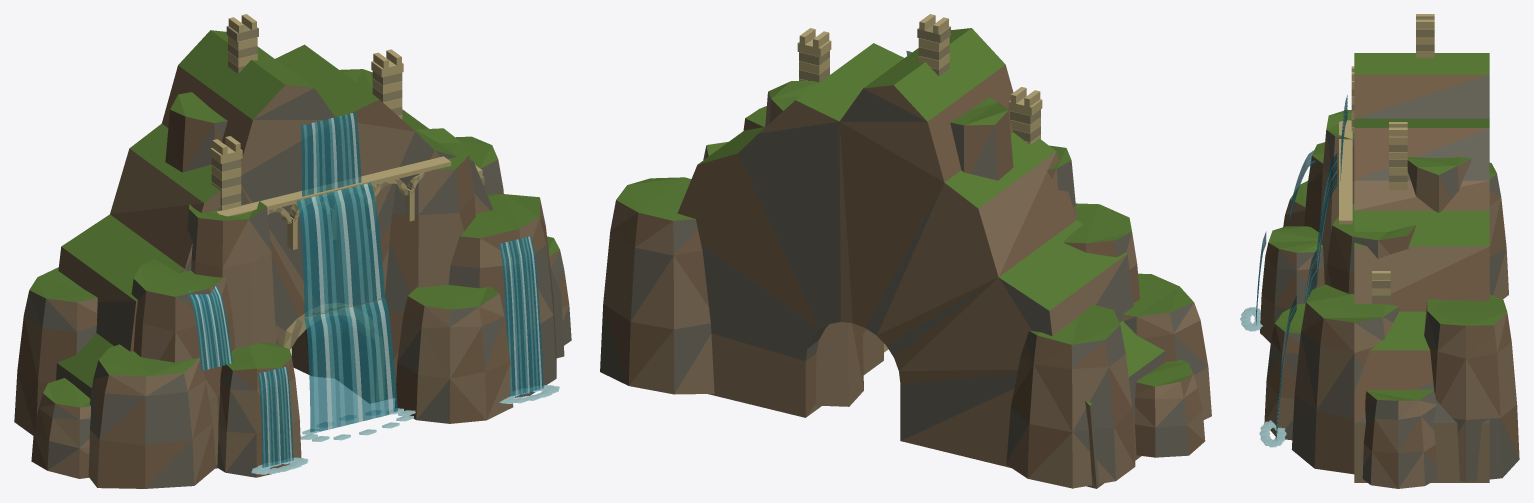
Rendered from waterfall_island.glb.
3 renders of one model, left to right at view 1: azimuth 30°, elevation 25°; view 2: azimuth 150°, elevation 25°; view 3: azimuth 270°, elevation 25°, orthographic. The views are drawn at different scales.
Visible parts, largest first — view 1: WaterfallIsland_Terrain, WaterfallIsland_Water, WaterfallIsland_Ruins, WaterfallIsland_Foam; view 2: WaterfallIsland_Terrain, WaterfallIsland_Ruins; view 3: WaterfallIsland_Terrain, WaterfallIsland_Ruins, WaterfallIsland_Water, WaterfallIsland_Foam.
Boxes of the visible parts, <box> form: WaterfallIsland_Terrain: <box>14,30,571,488</box>; WaterfallIsland_Water: <box>187,112,543,467</box>; WaterfallIsland_Ruins: <box>210,14,484,400</box>; WaterfallIsland_Foam: <box>251,385,559,474</box>; WaterfallIsland_Terrain: <box>600,28,1211,488</box>; WaterfallIsland_Ruins: <box>797,14,1042,352</box>; WaterfallIsland_Terrain: <box>1260,53,1519,488</box>; WaterfallIsland_Ruins: <box>1339,14,1434,302</box>; WaterfallIsland_Water: <box>1256,95,1347,440</box>; WaterfallIsland_Foam: <box>1240,307,1286,447</box>.
Size of the model in its own units: 164 by 111 by 82.45.
10 materials, 10 textured.
